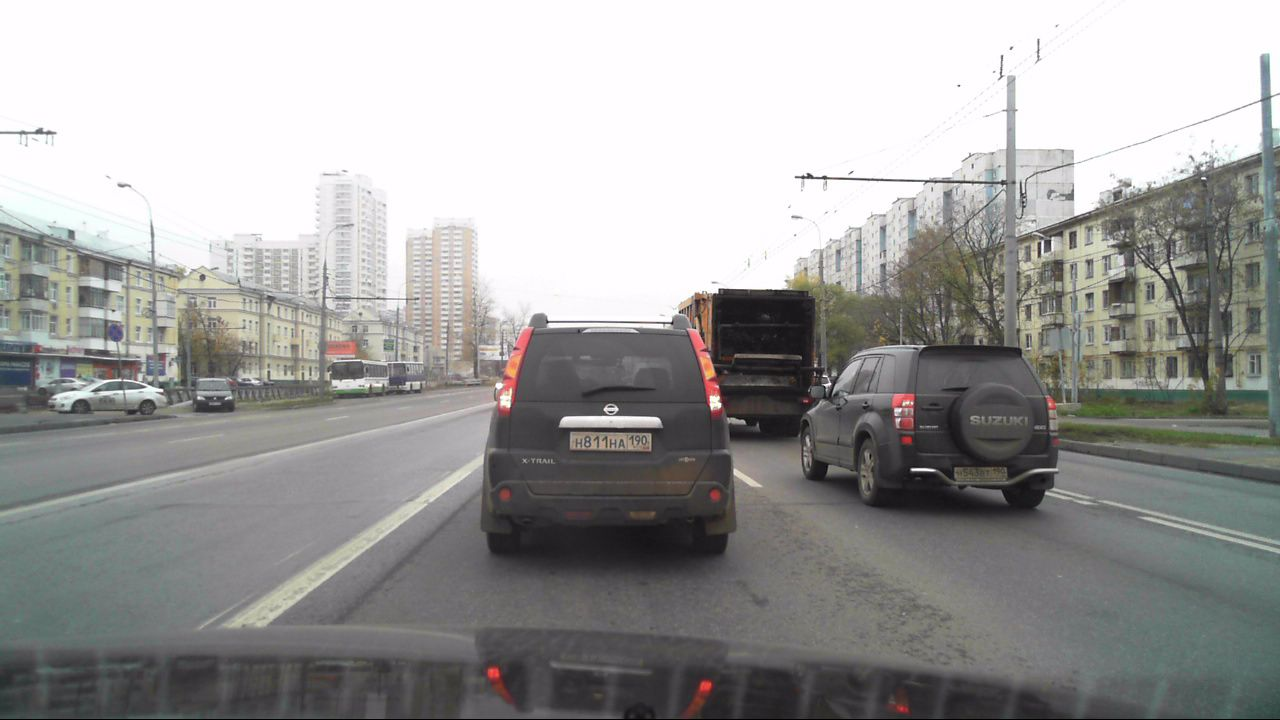No Parking: (108, 324, 126, 342)
